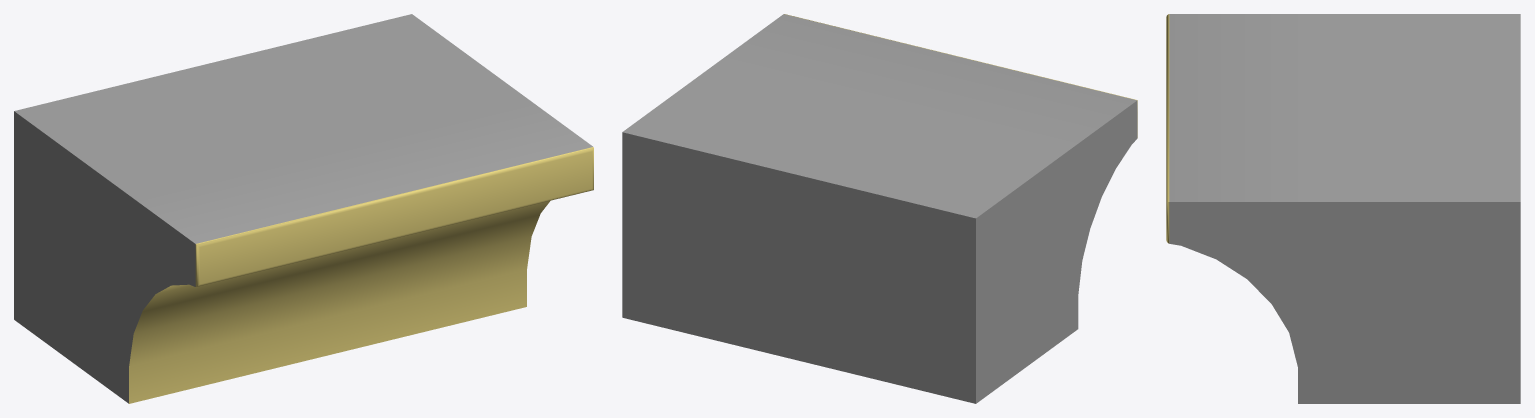
The model's file is Corniche.fbx.
The picture shows the model from 3 angles, left to right: view 1: azimuth 30°, elevation 25°; view 2: azimuth 150°, elevation 25°; view 3: azimuth 270°, elevation 25°; orthographic projection. The views are drawn at different scales.
Visible parts, largest first — view 1: Desert_ArchitraveCorniche_low; view 2: Desert_ArchitraveCorniche_low; view 3: Desert_ArchitraveCorniche_low.
Part boxes in pixels (bbox=[...]): Desert_ArchitraveCorniche_low: bbox=[14, 14, 593, 403]; Desert_ArchitraveCorniche_low: bbox=[622, 14, 1137, 403]; Desert_ArchitraveCorniche_low: bbox=[1166, 14, 1520, 403].
Bounding box in the file's own units: 2 × 1 × 1.59.
